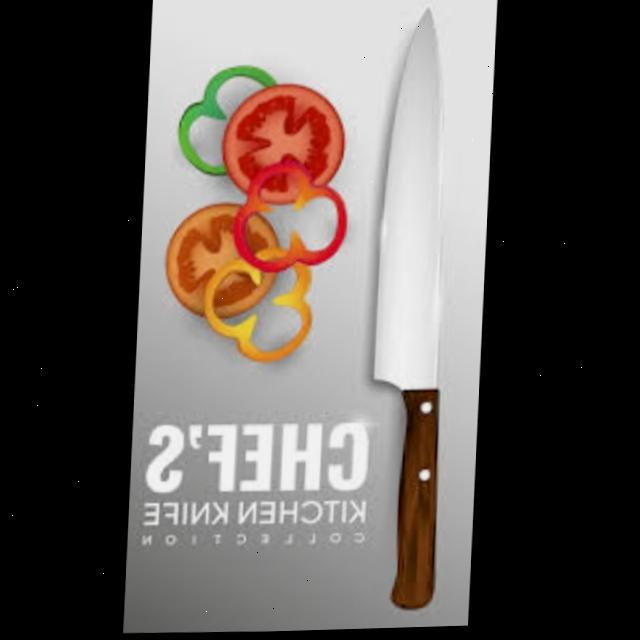Knife: (366, 6, 464, 612)
